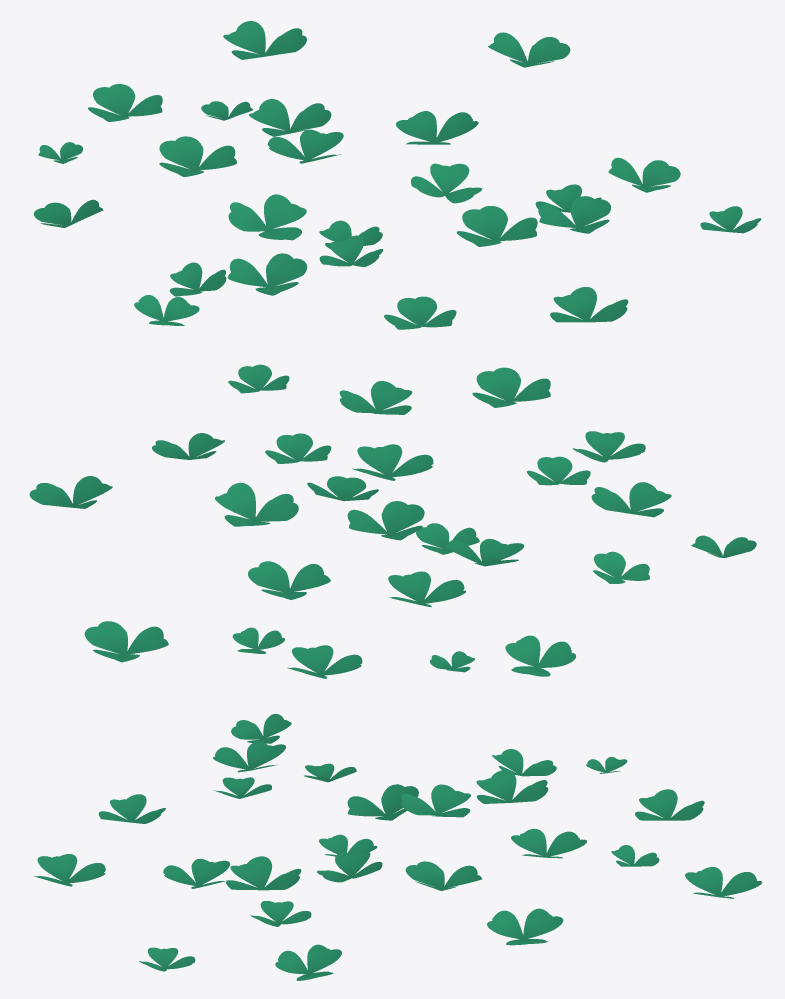
3 renders of one model, top to bottom at view 1: azimuth 30°, elevation 25°; view 2: azimuth 150°, elevation 25°; view 3: azimuth 270°, elevation 25°, orthographic. The views are drawn at different scales.
Parts seen in each view (by area): view 1: submesh_0; view 2: submesh_0; view 3: submesh_0.
Boxes of the visible parts, bbox=[...] form: submesh_0: bbox=[33, 21, 761, 329]; submesh_0: bbox=[29, 364, 756, 678]; submesh_0: bbox=[34, 713, 762, 980].
Bounding box in the file's own units: 0.9946 × 0.114 × 1.2.
1 material, 1 textured.
